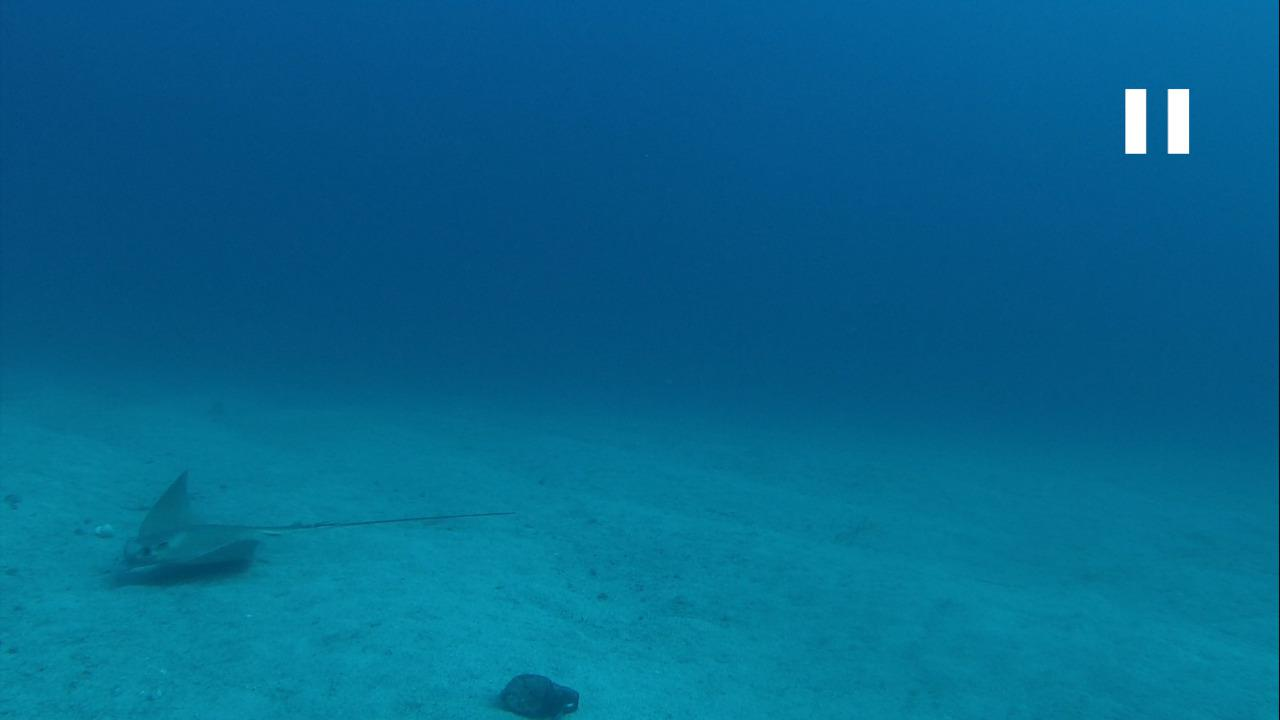myliobatis: (111, 467, 511, 578)
